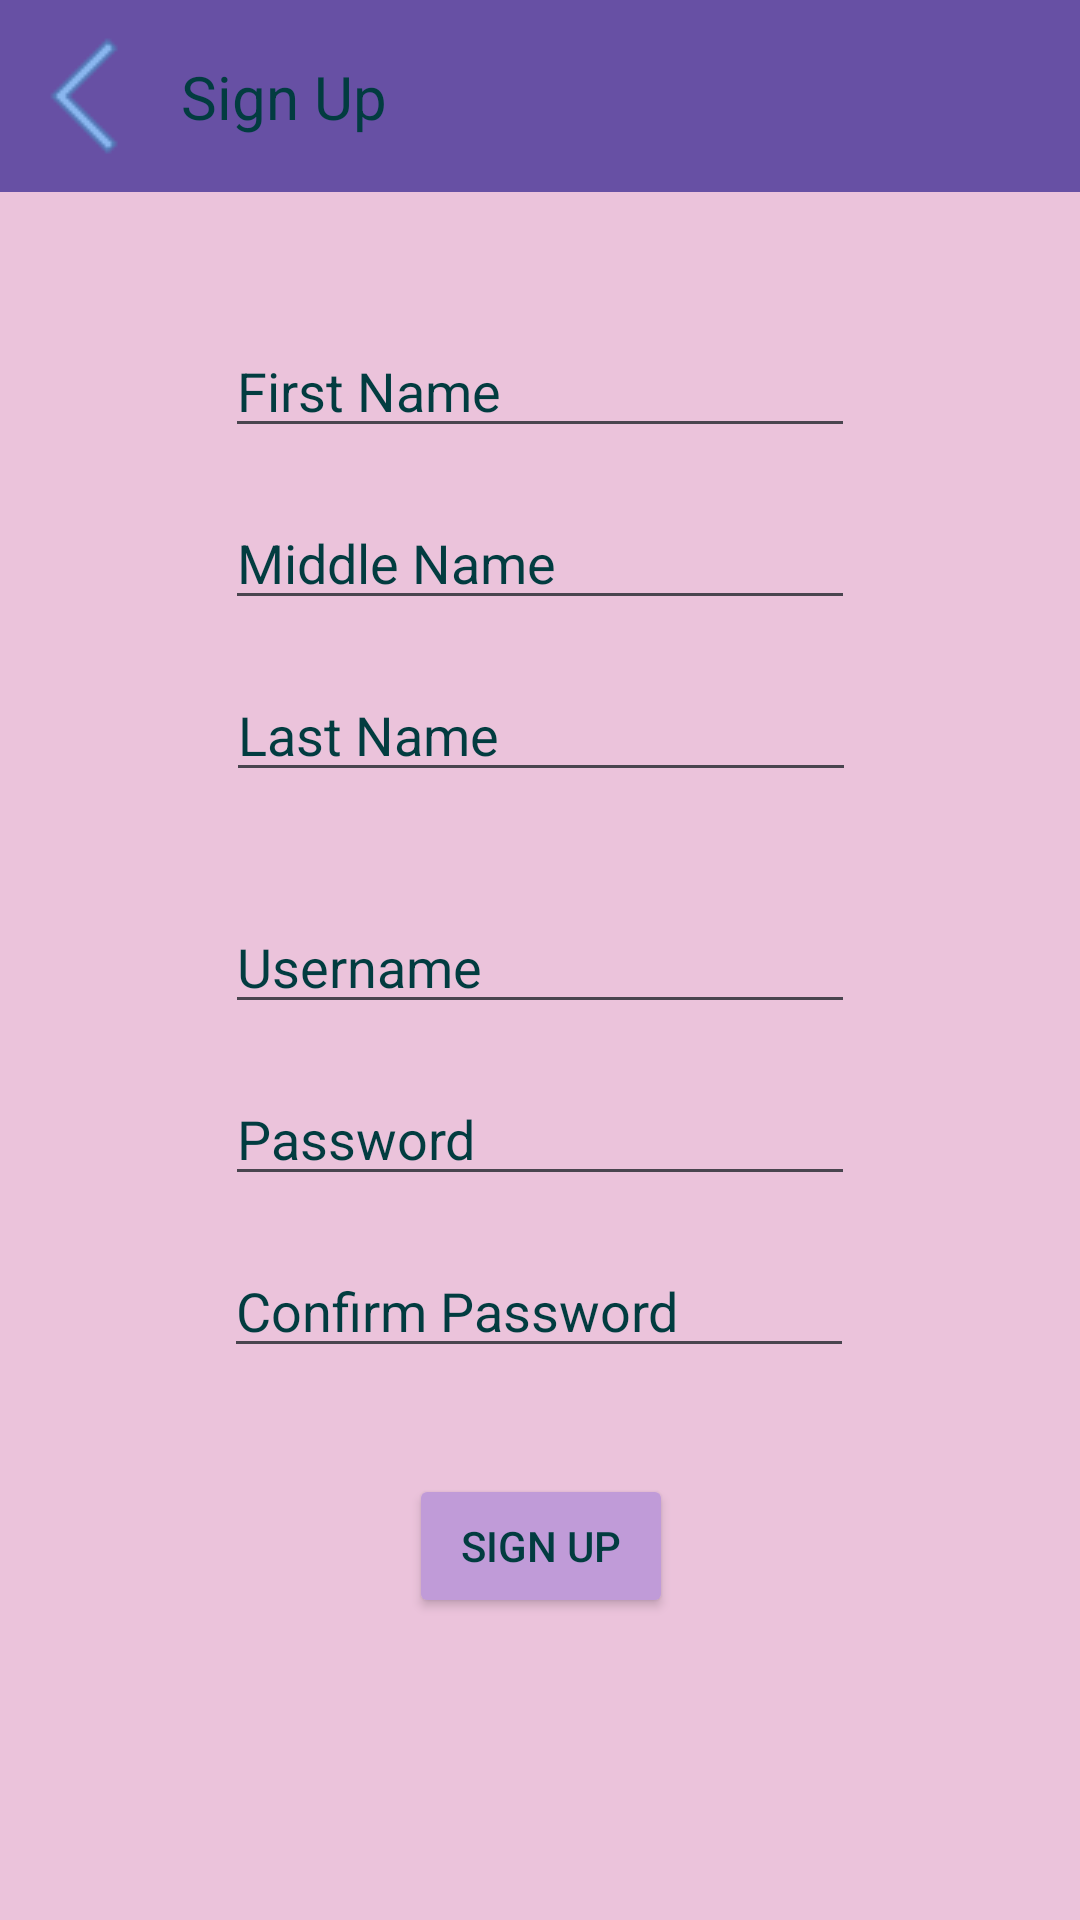

Where to tap for icons on this 1080px×1920px app screen, as (x,y):
back: (84,96)
